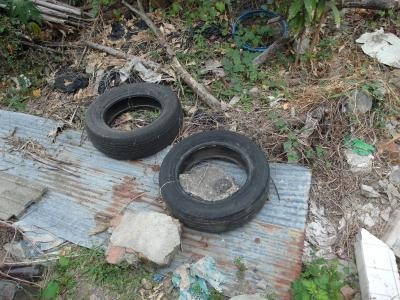tire: (155, 126, 273, 235), (82, 79, 184, 163)
